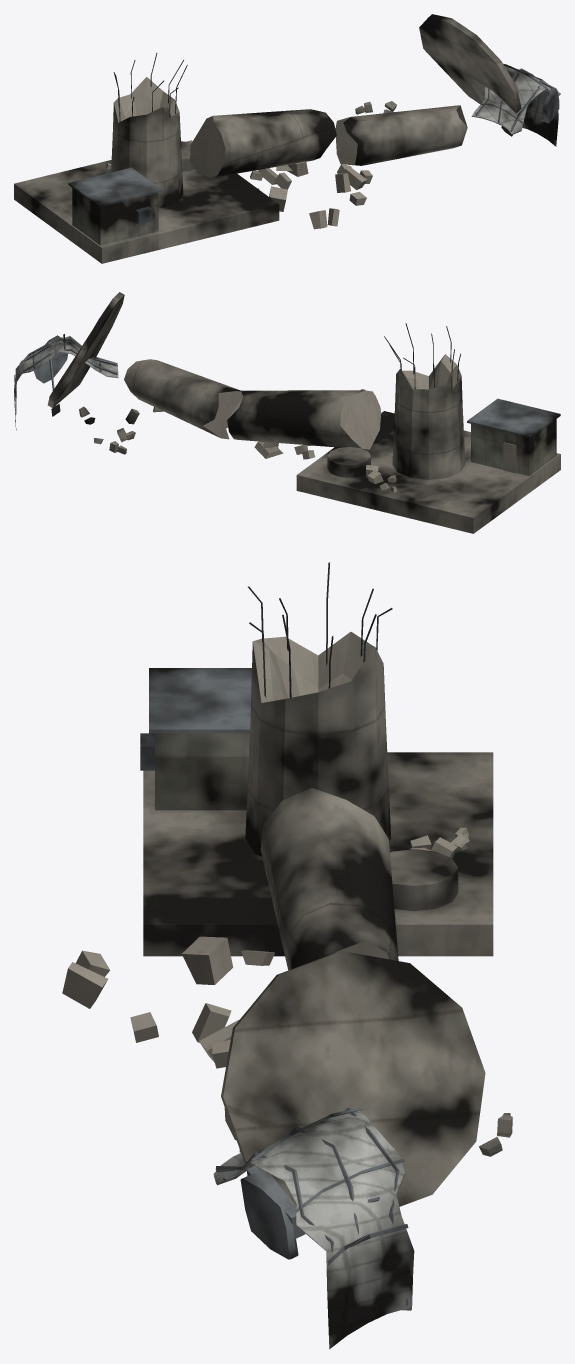
Rendered from radar_tower_wreck.glb.
3 views of the same model, one above another, from view 1: azimuth 30°, elevation 25°; view 2: azimuth 150°, elevation 25°; view 3: azimuth 270°, elevation 25° (orthographic). The views are drawn at different scales.
Parts seen in each view (by area): view 1: lod0; view 2: lod0; view 3: lod0.
Part boxes in pixels (box(x1,y1,x2,y2)): lod0: box(14, 14, 560, 263); lod0: box(14, 292, 560, 533); lod0: box(62, 562, 512, 1349).
Size of what is drawn, in the model's own units: 39.76 by 13.82 by 15.45.
Materials: 1 (1 with a texture image).
